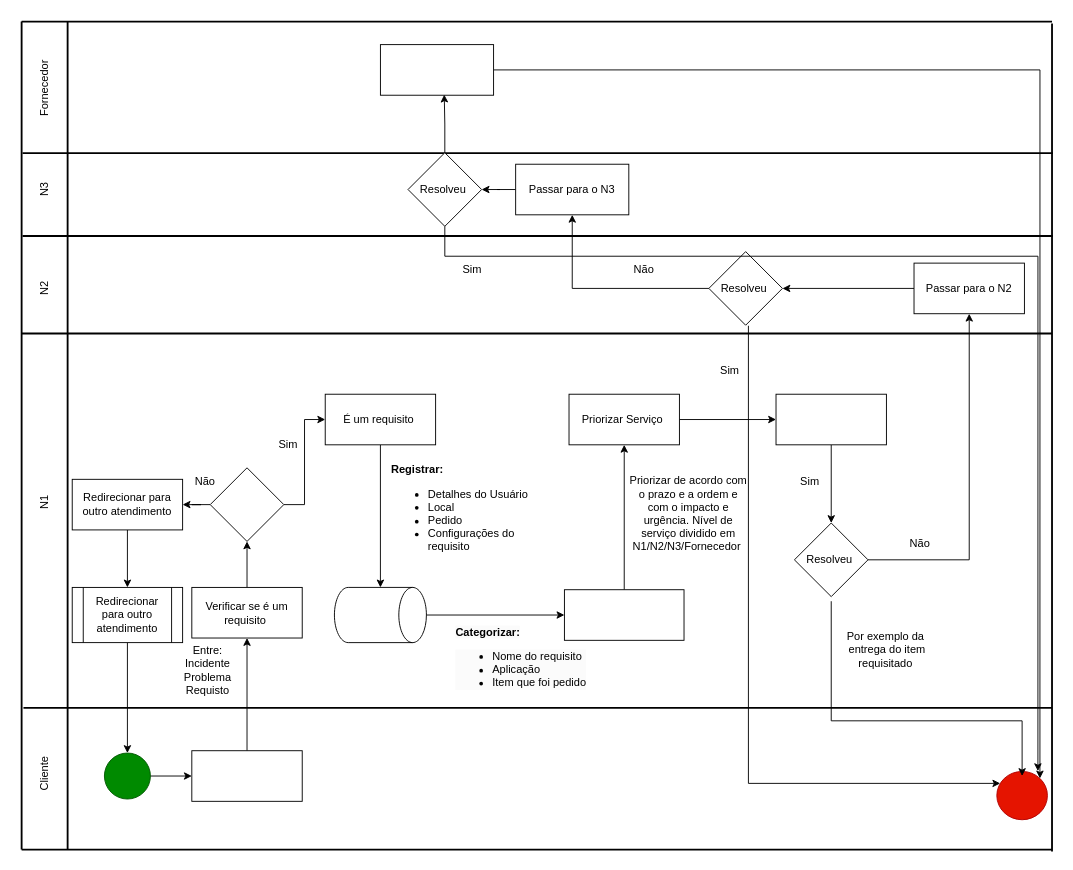
Some shapes in this 1073 by 870 pixel diagram are drawn without their labels. The shapes that lost their labels are listed below. From the top down, each one's box as (x1, y1, x2, y2) in pixels, then its label:
(380, 44, 494, 95): Passar para o fornecedor
(775, 393, 886, 445): Resolução
(334, 586, 426, 643): Registrar no Sistema
(564, 589, 684, 640): Categorizar requisito
(191, 750, 302, 801): Iniciar Atendimento
